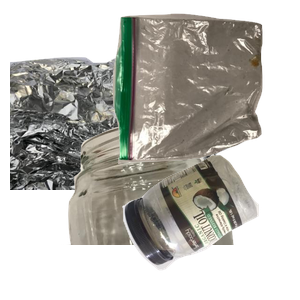glass: (61, 120, 287, 300)
metal: (10, 47, 250, 227)
plastic: (120, 152, 300, 300)
trash: (110, 11, 300, 167)
